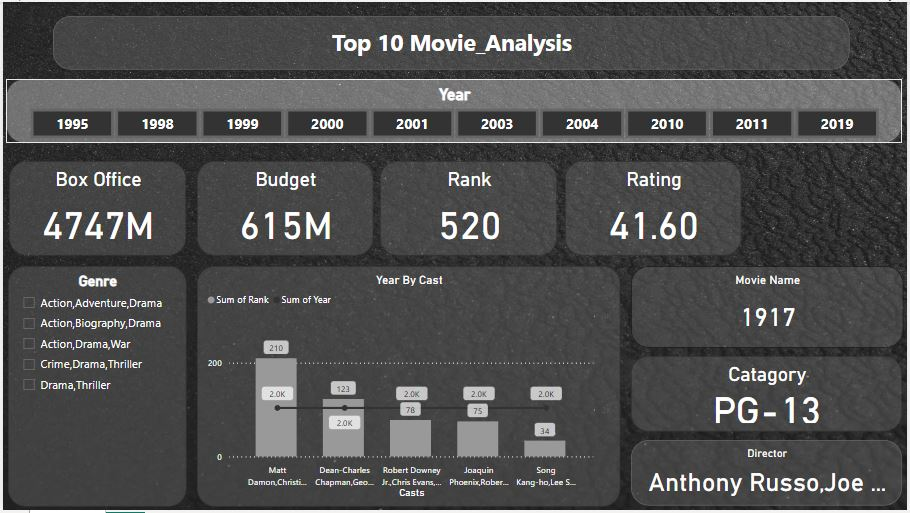

Layout of this report page (visuals, bound fields, positions):
{"tool":"powerbi","page":{"name":"Page 1","canvas":[1280,720],"ordinal":0},"visuals":[{"type":"card","title":"Box Office","fields":{"Values":["IMDB Top 250 Movies.Box_office"]},"box":[8.6,225.7,251.4,134.3],"z":0},{"type":"card","title":"Budget","fields":{"Values":["IMDB Top 250 Movies.Budget"]},"box":[274.3,225.7,250,134.3],"z":1000},{"type":"card","title":"Rank","fields":{"Values":["IMDB Top 250 Movies.Rank"]},"box":[534.3,225.7,251.4,134.3],"z":2000},{"type":"card","title":"Rating","fields":{"Values":["IMDB Top 250 Movies.Rating"]},"box":[797.1,225.7,250,134.3],"z":3000},{"type":"slicer","title":"Year","fields":{"Values":["IMDB Top 250 Movies.Year"]},"box":[4.3,108.6,1270,91.4],"z":4000},{"type":"slicer","title":"Genre","fields":{"Values":["IMDB Top 250 Movies.Genre"]},"box":[7.1,374.3,252.9,341.4],"z":5000},{"type":"card","title":"Catagory","fields":{"Values":["IMDB Top 250 Movies.Certificate"]},"box":[890,501.4,384.3,107.1],"z":6000},{"type":"lineStackedColumnComboChart","title":"Year By Cast","fields":{"Category":["IMDB Top 250 Movies.Casts"],"Y2":["IMDB Top 250 Movies.Year"],"Y":["IMDB Top 250 Movies.Rank"]},"box":[274.3,374.3,600,341.4],"z":7000},{"type":"card","title":"Movie Name","fields":{"Values":["IMDB Top 250 Movies.Name"]},"box":[890,374.3,385.7,115.7],"z":8000},{"type":"textbox","box":[71.4,20,1128.6,75.7],"z":9000},{"type":"card","title":"Director","fields":{"Values":["IMDB Top 250 Movies.Directors"]},"box":[890,621.4,384.3,92.9],"z":10000}]}

Visuals, with their boxes in screenshot pixels (x1, y1, x2, y2), scaled from the page's 1280x720 canvas onto the 910x513 screenshot:
"Box Office" card: 6:161:185:256
"Budget" card: 195:161:373:256
"Rank" card: 380:161:559:256
"Rating" card: 567:161:744:256
"Year" slicer: 3:77:906:142
"Genre" slicer: 5:267:185:510
"Catagory" card: 633:357:906:434
"Year By Cast" lineStackedColumnComboChart: 195:267:622:510
"Movie Name" card: 633:267:907:349
textbox: 51:14:853:68
"Director" card: 633:443:906:509
